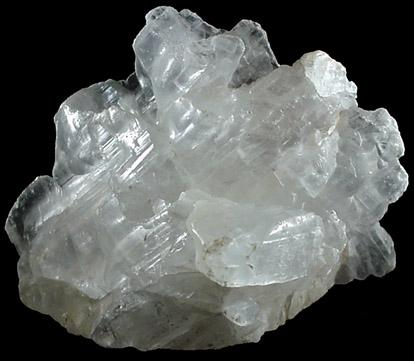gypsum: (7, 6, 409, 350)
